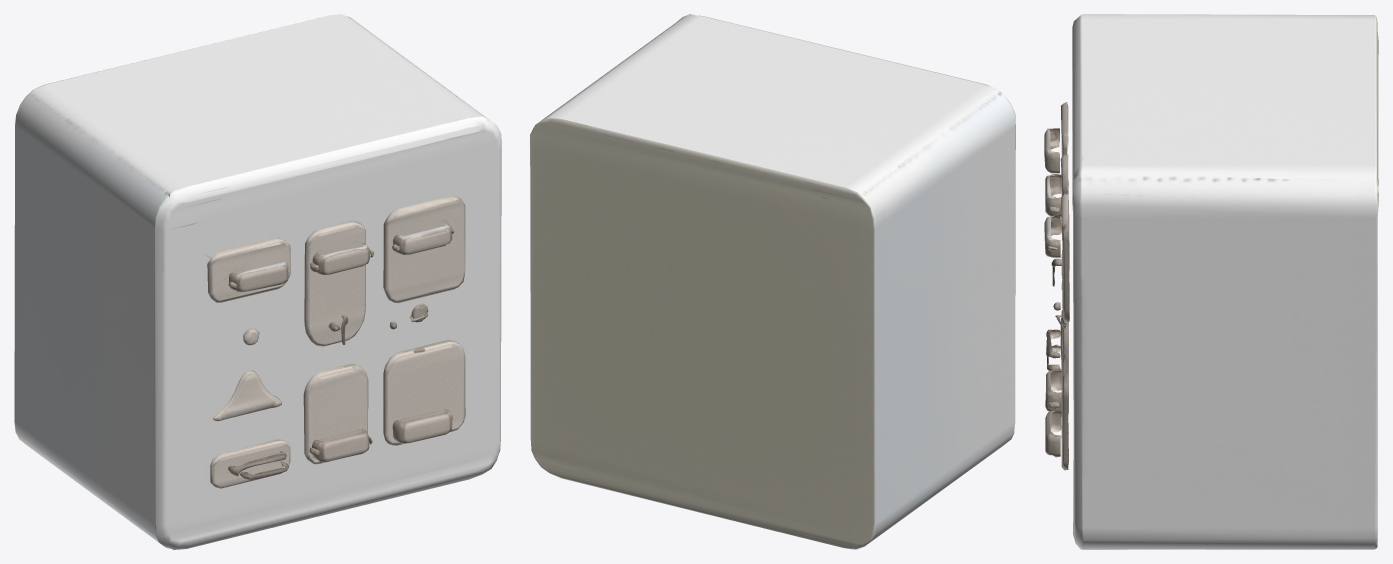
File: ColorGrid.glb
3 views of the same model, side by side, from view 1: azimuth 30°, elevation 25°; view 2: azimuth 150°, elevation 25°; view 3: azimuth 270°, elevation 25° (orthographic). The views are drawn at different scales.
Size of the model in its own units: 1 by 1 by 0.7969.
Materials: 1 (1 with a texture image).
